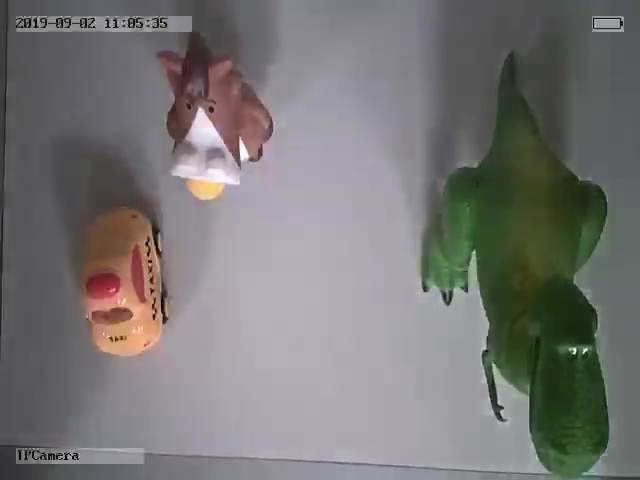car: (78, 206, 173, 358)
horse: (157, 34, 273, 201)
rex: (421, 86, 610, 478)
